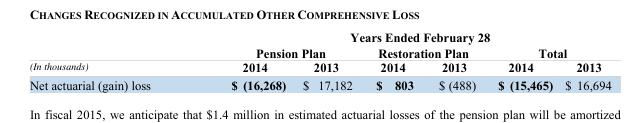table: (28, 29, 610, 91)
table column: (28, 29, 190, 91), (190, 29, 293, 91), (486, 29, 558, 91), (293, 29, 363, 91), (363, 29, 425, 91), (425, 29, 486, 91), (558, 29, 610, 91)
table column header: (28, 29, 610, 75)
table row: (28, 59, 610, 75), (28, 75, 610, 91), (28, 29, 610, 44), (28, 44, 610, 59)
table spanning cell: (28, 29, 190, 75), (190, 29, 610, 44), (190, 44, 363, 59), (486, 44, 610, 59), (363, 44, 486, 59)
